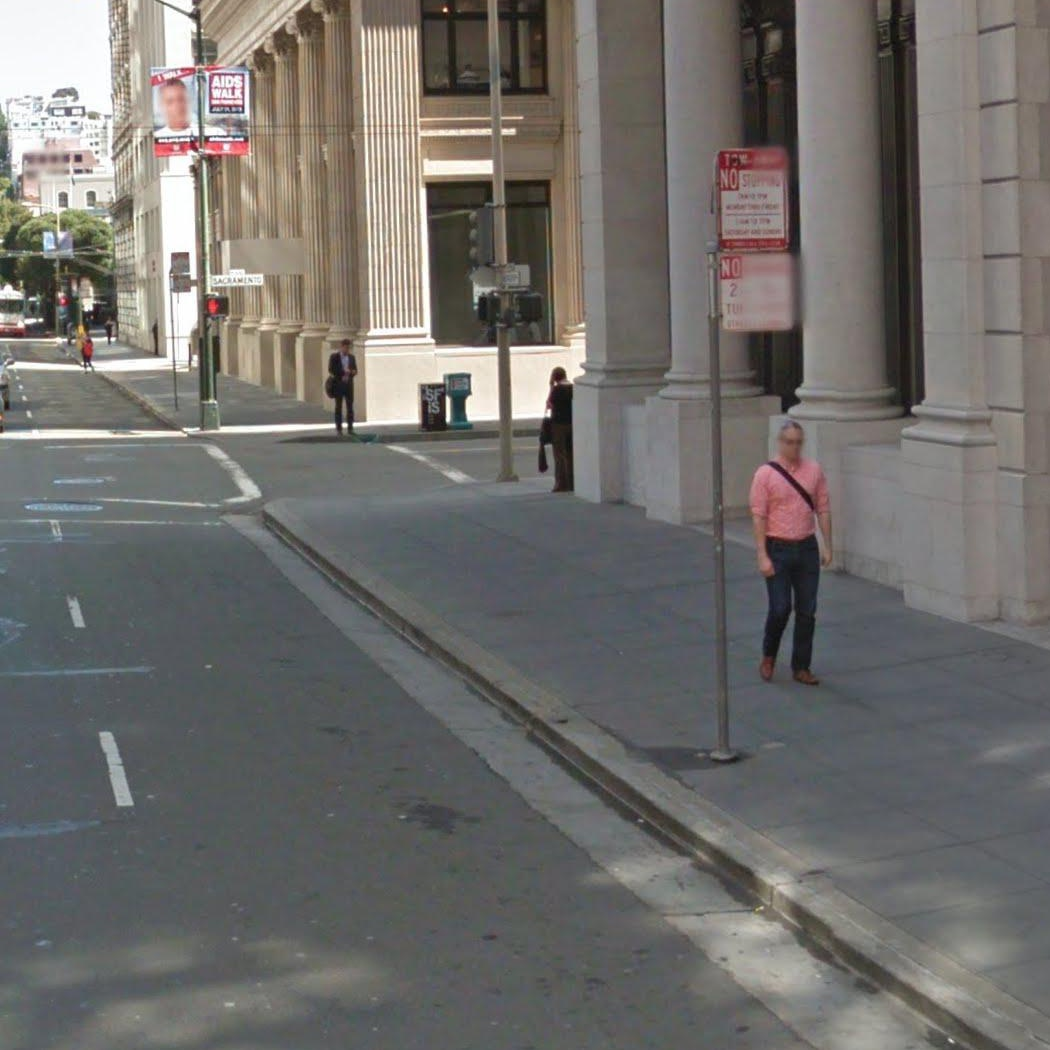No Parking: (718, 251, 798, 332)
